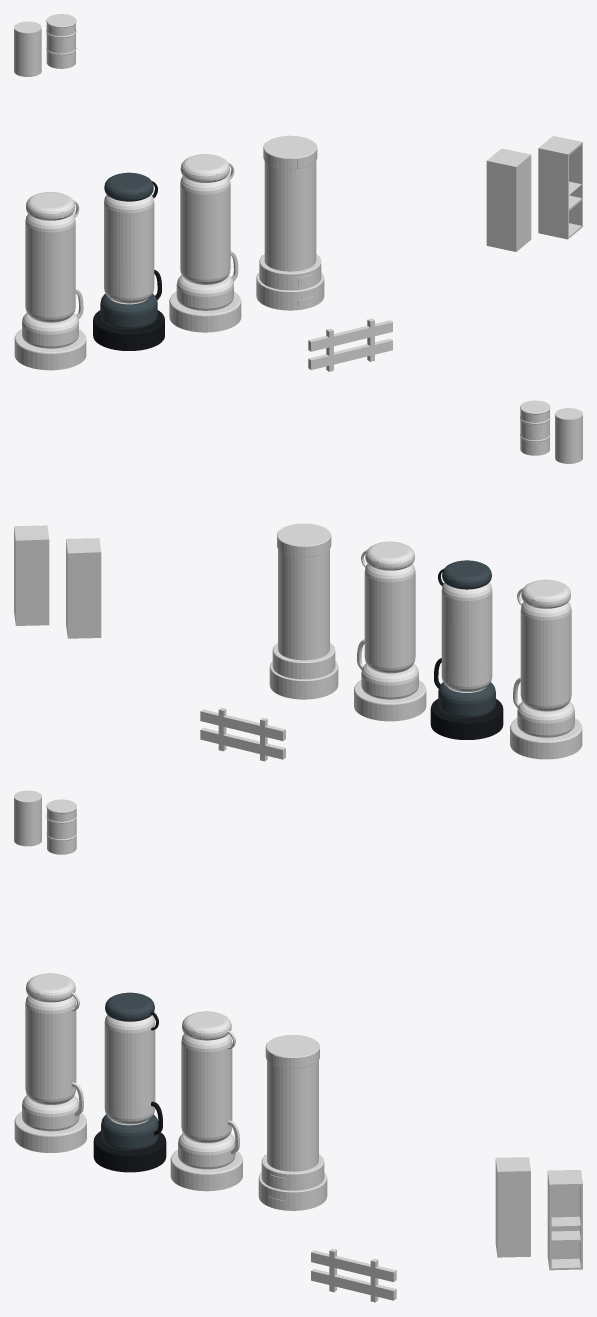
File: big jam.fbx
3 views of the same model, one above another, from view 1: azimuth 30°, elevation 25°; view 2: azimuth 150°, elevation 25°; view 3: azimuth 330°, elevation 25° (orthographic).
Parts seen in each view (by area): view 1: Cylinder.011, Cylinder.004, Cylinder.006, Cylinder.016, Cube.001, Cube.002, Cylinder.014, Cylinder.003, Cylinder.008, Cube, Cylinder.001, Cylinder.015 (+3 smaller); view 2: Cylinder.011, Cylinder.004, Cylinder.016, Cylinder.006, Cube.001, Cube.002, Cylinder.014, Cylinder.003, Cylinder.008, Cube, Cylinder.001, Cylinder.005 (+3 smaller); view 3: Cylinder.011, Cylinder.004, Cylinder.016, Cylinder.006, Cube.001, Cube.002, Cylinder.014, Cylinder.003, Cylinder.008, Cube, Cylinder.001, Cylinder.015 (+3 smaller).
Boxes of the visible parts, bbox=[...] form: Cylinder.011: bbox=[93, 172, 164, 350]; Cylinder.004: bbox=[264, 161, 316, 271]; Cylinder.006: bbox=[25, 214, 75, 322]; Cylinder.016: bbox=[180, 176, 230, 284]; Cube.001: bbox=[486, 148, 531, 251]; Cube.002: bbox=[538, 136, 582, 239]; Cylinder.014: bbox=[169, 154, 241, 332]; Cylinder.003: bbox=[14, 192, 86, 370]; Cylinder.008: bbox=[259, 135, 321, 290]; Cube: bbox=[308, 318, 392, 371]; Cylinder.001: bbox=[46, 14, 76, 68]; Cylinder.015: bbox=[176, 275, 233, 310]; Cylinder.011: bbox=[430, 560, 503, 739]; Cylinder.004: bbox=[278, 549, 329, 660]; Cylinder.016: bbox=[364, 563, 415, 673]; Cylinder.006: bbox=[520, 601, 571, 711]; Cube.001: bbox=[66, 538, 101, 638]; Cube.002: bbox=[14, 525, 49, 625]; Cylinder.014: bbox=[354, 541, 426, 721]; Cylinder.003: bbox=[510, 579, 582, 759]; Cylinder.008: bbox=[272, 523, 335, 679]; Cube: bbox=[200, 707, 285, 761]; Cylinder.001: bbox=[520, 400, 550, 455]; Cylinder.005: bbox=[517, 701, 574, 737]; Cylinder.011: bbox=[93, 992, 166, 1172]; Cylinder.004: bbox=[267, 1060, 318, 1171]; Cylinder.016: bbox=[181, 1033, 232, 1143]; Cylinder.006: bbox=[25, 995, 76, 1104]; Cube.001: bbox=[495, 1157, 530, 1257]; Cube.002: bbox=[547, 1170, 582, 1270]; Cylinder.014: bbox=[170, 1011, 242, 1191]; Cylinder.003: bbox=[14, 973, 86, 1152]; Cylinder.008: bbox=[261, 1035, 324, 1190]; Cube: bbox=[311, 1248, 396, 1302]; Cylinder.001: bbox=[46, 799, 76, 854]; Cylinder.015: bbox=[178, 1133, 235, 1169].
Bounding box in the file's own units: 595 × 420 × 65.56.
